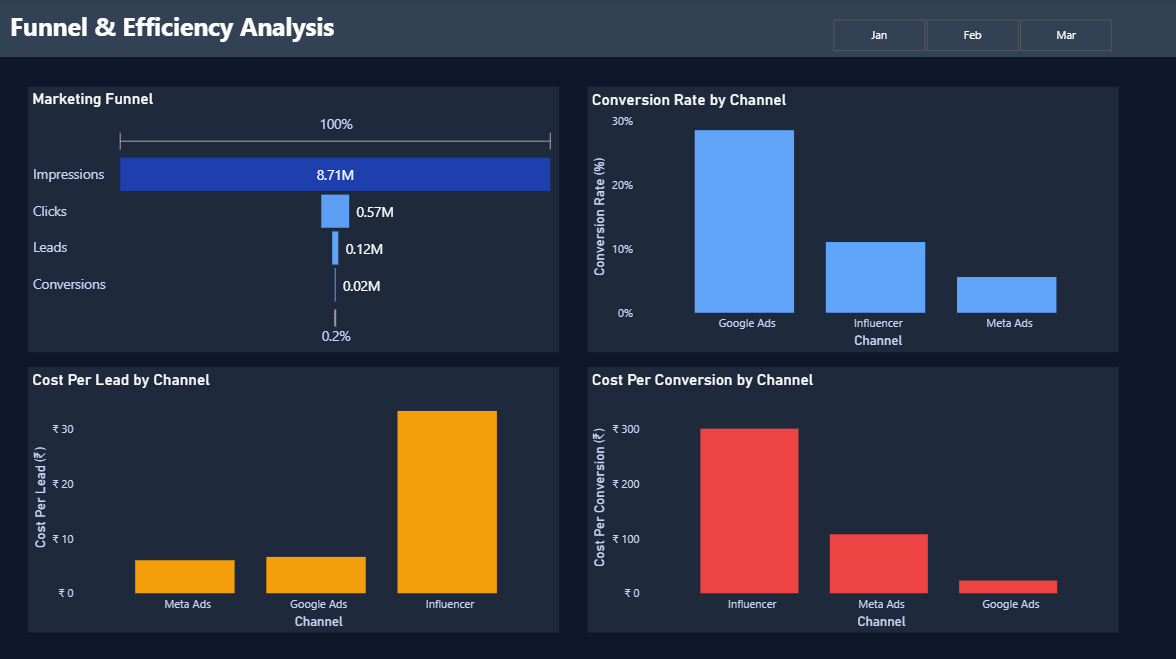

The page's visual inventory and layout, read from the dashboard file:
{"tool":"powerbi","page":{"name":"Funnel & Efficiency Analysis","canvas":[1280,720],"ordinal":1},"visuals":[{"type":"shape","box":[0,0,1280,64],"z":0},{"type":"textbox","box":[0,0,528,64],"z":1000},{"type":"funnel","title":"Marketing Funnel","fields":{"Category":["Funnel Stages.Stage"],"Y":["Funnel Stages.Funnel Value"]},"box":[32,96,576,288],"z":2000},{"type":"clusteredColumnChart","title":"Conversion Rate by Channel","fields":{"Category":["Marketing_Data.Channel"],"Y":["Marketing_Data.Conversion Rate Channel"]},"box":[640,96,576,288],"z":3000},{"type":"slicer","fields":{"Values":["Marketing_Data.Month"]},"box":[880,16,352,48],"z":4000},{"type":"clusteredColumnChart","title":"Cost Per Lead  by Channel","fields":{"Category":["Marketing_Data.Channel"],"Y":["Marketing_Data.CPL Channel"]},"box":[32,400,576,288],"z":5000},{"type":"clusteredColumnChart","title":"Cost Per Conversion by Channel","fields":{"Category":["Marketing_Data.Channel"],"Y":["Marketing_Data.CPC Channel"]},"box":[640,400,576,288],"z":6000}]}

Visuals, with their boxes in screenshot pixels (x1, y1, x2, y2), scaled from the page's 1280x720 canvas onto the 1176x659 screenshot:
shape: Rect(0, 0, 1175, 59)
textbox: Rect(0, 0, 485, 59)
"Marketing Funnel" funnel: Rect(29, 88, 559, 351)
"Conversion Rate by Channel" clusteredColumnChart: Rect(588, 88, 1117, 351)
slicer - Marketing_Data.Month: Rect(808, 15, 1132, 59)
"Cost Per Lead  by Channel" clusteredColumnChart: Rect(29, 366, 559, 630)
"Cost Per Conversion by Channel" clusteredColumnChart: Rect(588, 366, 1117, 630)
